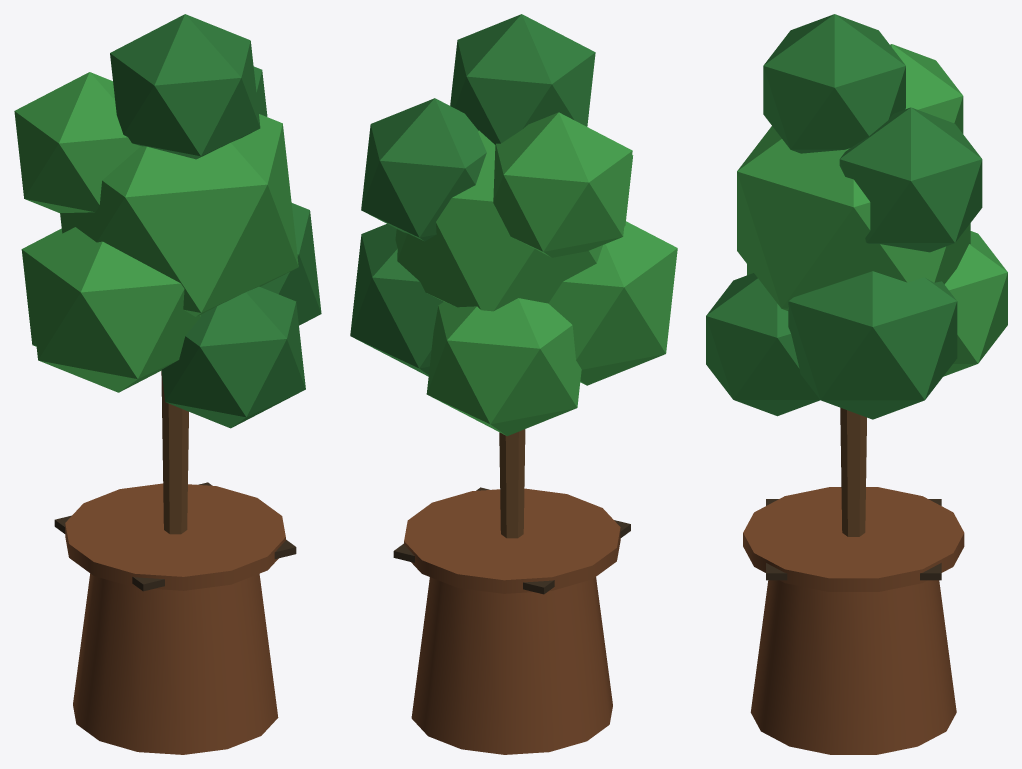
The model's file is sh_plant.glb.
3 renders of one model, left to right at view 1: azimuth 30°, elevation 25°; view 2: azimuth 150°, elevation 25°; view 3: azimuth 270°, elevation 25°, orthographic.
Parts seen in each view (by area): view 1: leaf, pot, leaf.001, trunk, soil; view 2: leaf, pot, leaf.001, trunk, soil; view 3: leaf.001, pot, leaf, trunk, soil.
Part boxes in pixels (box(x1,y1,x2,y2)): leaf: box(14, 72, 298, 392); pot: box(65, 483, 285, 754); leaf.001: box(110, 14, 321, 428); trunk: box(161, 371, 188, 534); soil: box(54, 482, 296, 591); leaf: box(395, 112, 677, 436); pot: box(404, 488, 620, 754); leaf.001: box(350, 14, 595, 376); trunk: box(499, 429, 525, 538); soil: box(393, 487, 630, 594); leaf.001: box(706, 14, 982, 419); pot: box(743, 487, 964, 754); leaf: box(737, 44, 1007, 376); trunk: box(840, 408, 866, 536); soil: box(766, 499, 941, 580).
Bounding box in the file's own units: 0.874 × 2.02 × 0.7913.
